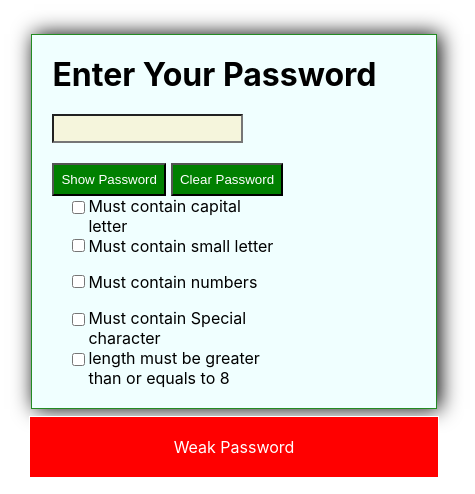
Test: PasswordChecker testing › it will reset the Password when we click Clear Password button
Type "hello" into the password field with test id "passwordinput".
click(148, 129); type("hello")  # box [52, 114, 243, 143]
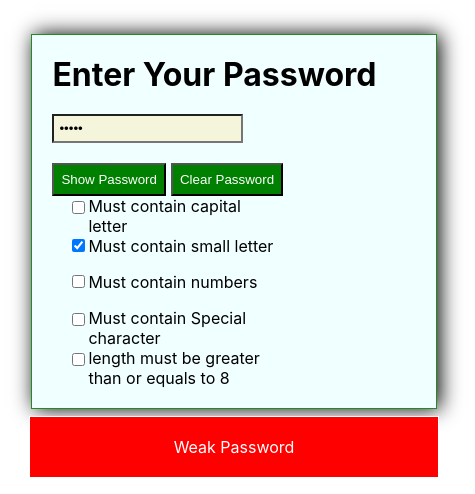
Click the button "Clear Password".
click(227, 180)  # box [171, 163, 283, 196]
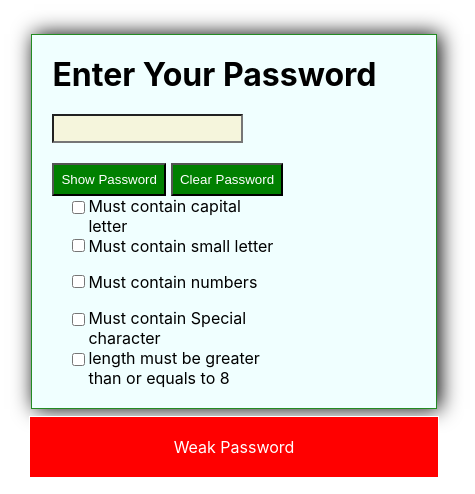
Now the password field with test id "passwordinput" is empty, box [52, 114, 243, 143]
